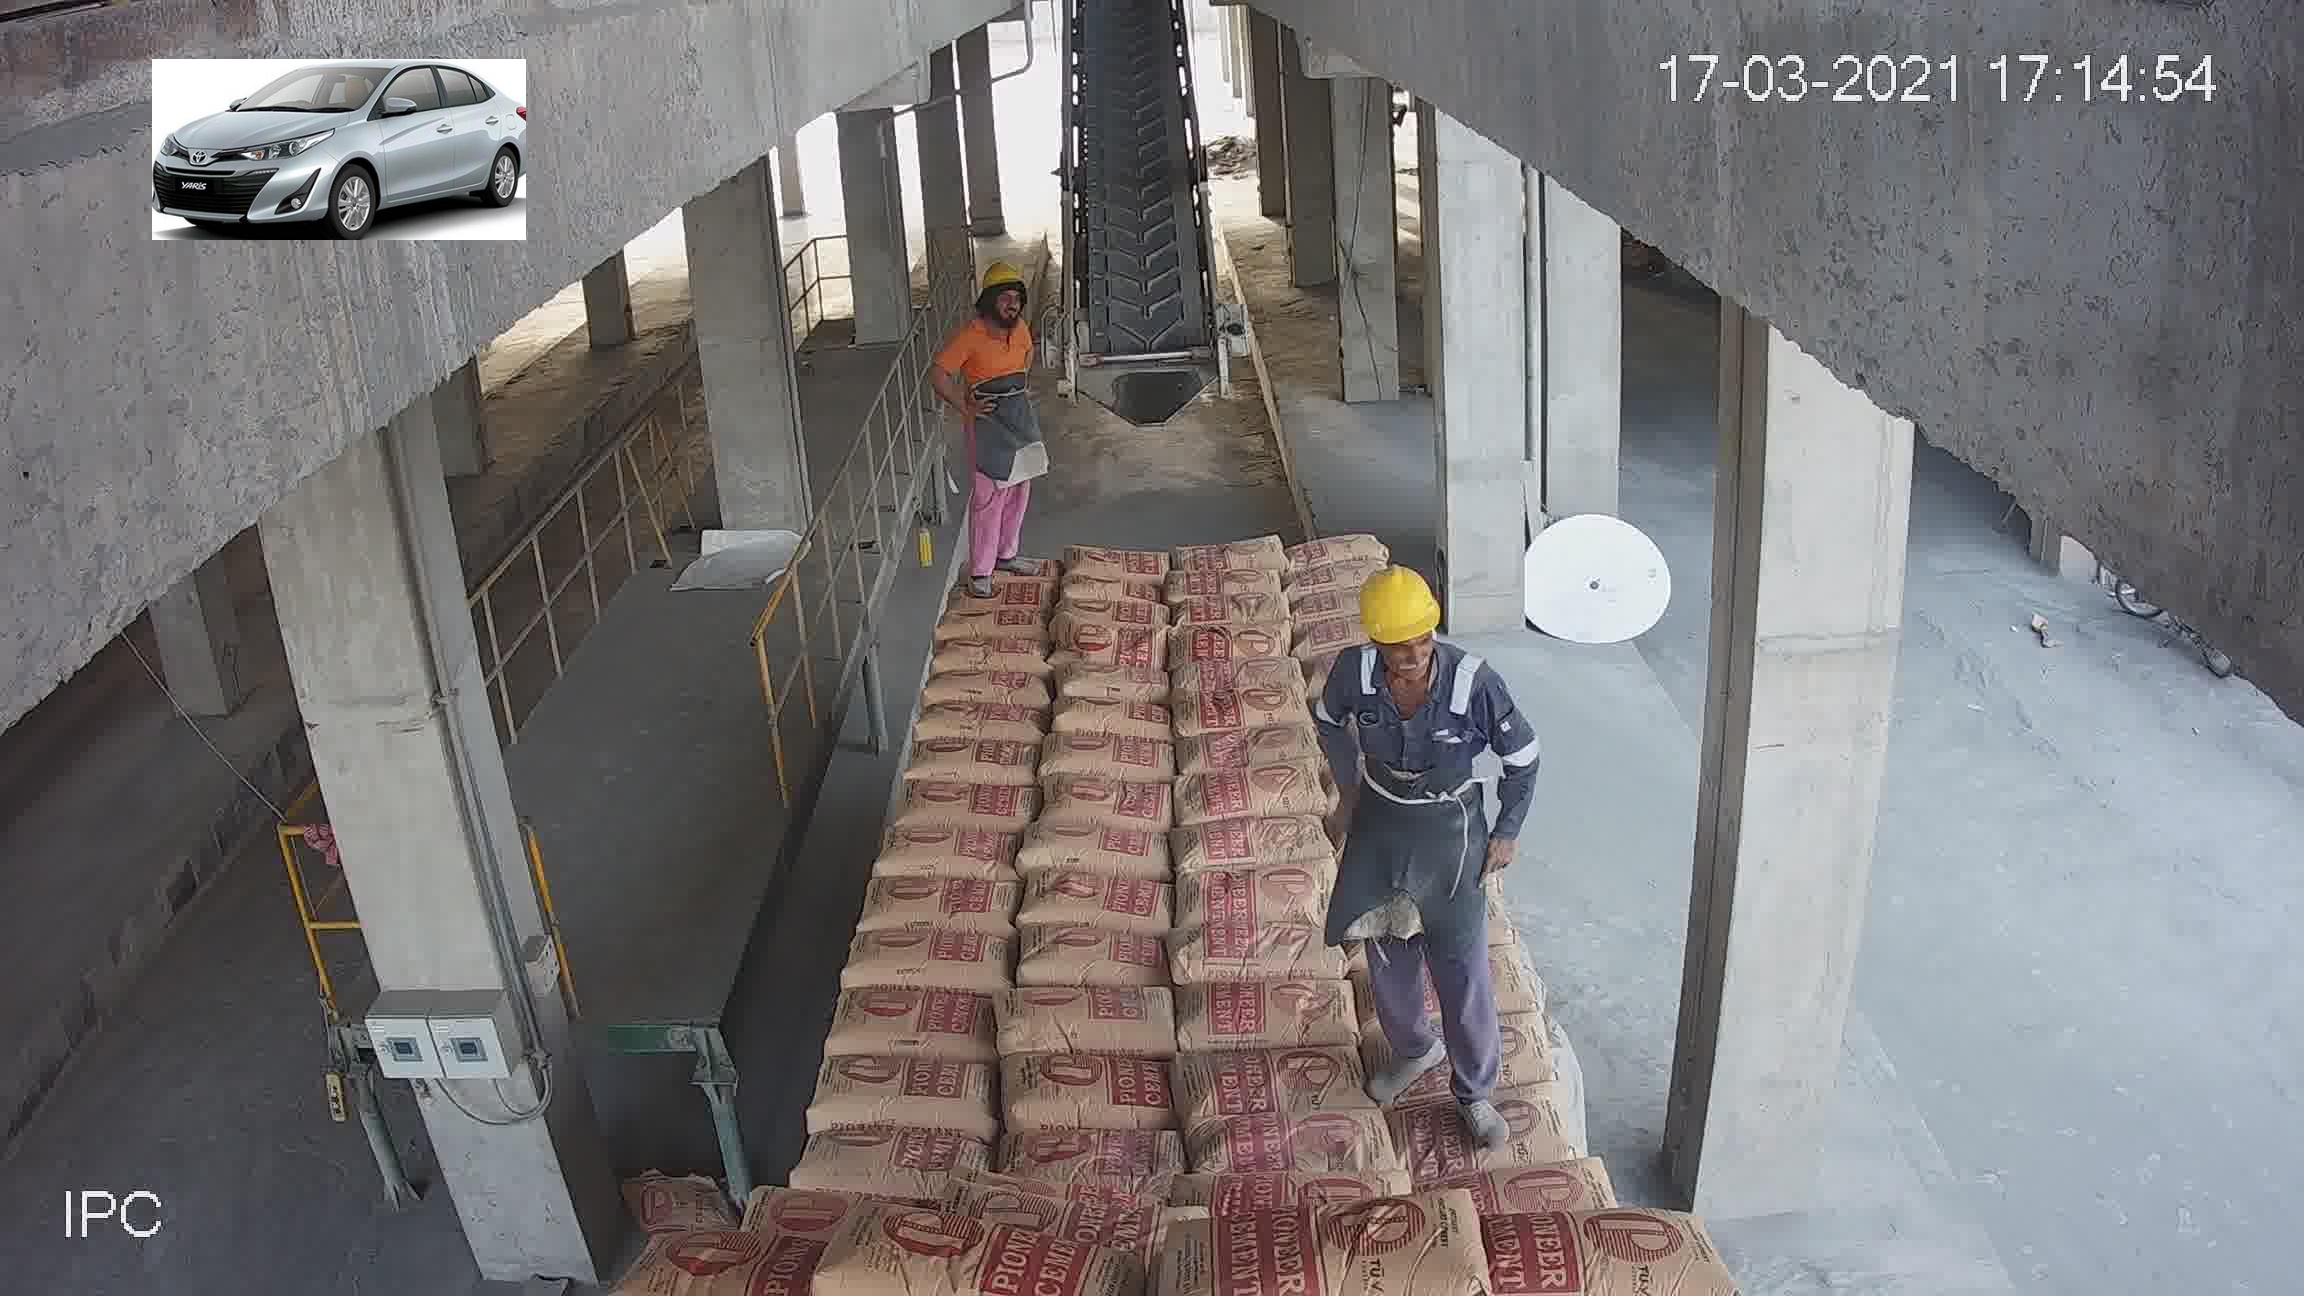bag_h: (1198, 1199, 1527, 1296), (791, 1211, 1138, 1294), (1446, 1207, 1720, 1293), (1377, 1076, 1552, 1198), (1185, 1043, 1374, 1133), (1199, 1106, 1400, 1188), (1169, 976, 1370, 1055), (805, 1055, 1006, 1135), (635, 1226, 843, 1294), (1002, 986, 1188, 1062), (828, 978, 1003, 1057), (1013, 1049, 1185, 1127), (786, 1127, 999, 1188), (855, 873, 1030, 948), (999, 1124, 1180, 1188), (1173, 924, 1350, 991), (837, 927, 1013, 994), (1176, 859, 1336, 932), (1021, 815, 1169, 888), (1438, 1165, 1609, 1226), (1180, 756, 1331, 824), (1180, 809, 1326, 873), (1022, 873, 1180, 932), (1013, 934, 1174, 991), (1043, 774, 1182, 836), (892, 782, 1040, 836), (873, 829, 1021, 881), (908, 698, 1057, 747), (905, 737, 1040, 790), (1169, 654, 1307, 703), (1176, 726, 1313, 775), (1063, 611, 1169, 673), (1057, 657, 1177, 711), (1177, 688, 1313, 734), (911, 661, 1048, 707), (1051, 741, 1179, 786), (1051, 698, 1166, 745), (927, 603, 1052, 646), (926, 638, 1062, 676), (954, 578, 1067, 623), (1169, 619, 1290, 661), (1282, 552, 1385, 600), (1291, 516, 1400, 559), (1168, 563, 1287, 601), (1173, 590, 1296, 627), (1169, 527, 1288, 563), (1059, 598, 1176, 633), (1071, 543, 1171, 582), (1054, 573, 1165, 606)
belt: (1052, 9, 1218, 385)
